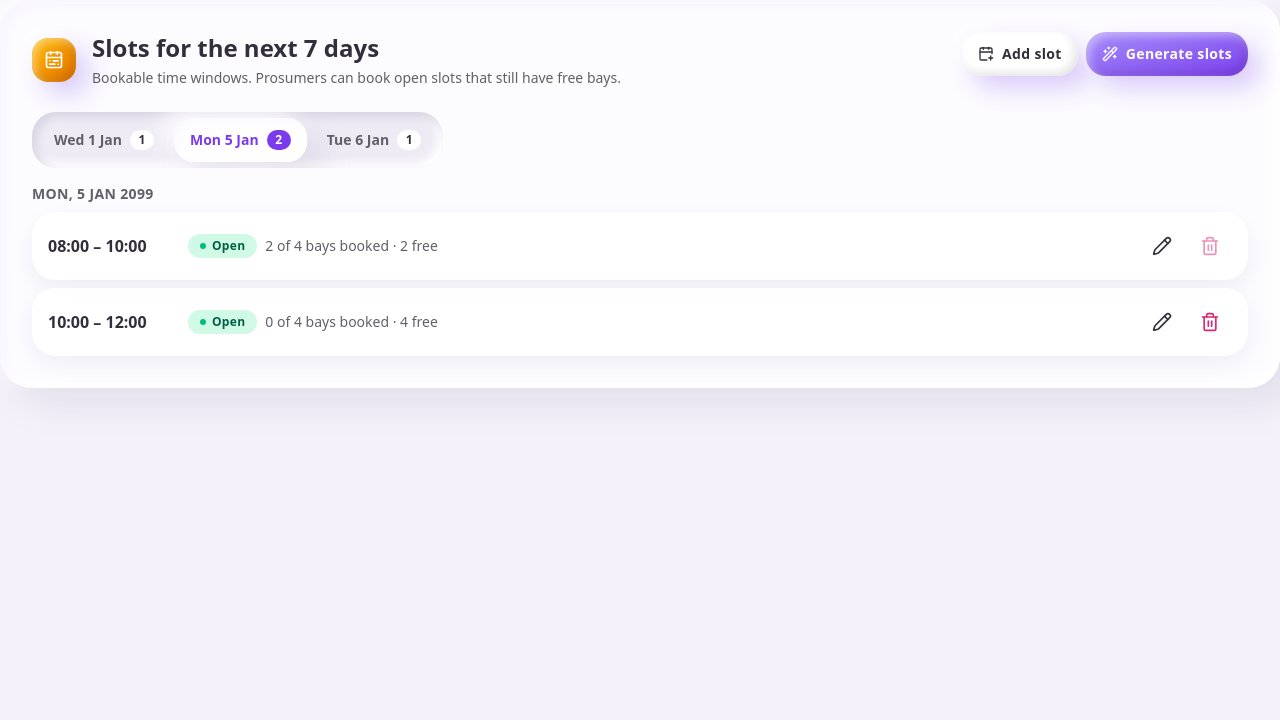
Test: SlotsPanel › adds one slot and opens its day
The image size is (1280, 720).
Expected: the element "5 Jan" is shown, [32,184,1248,356]
Click the button "Add slot" at (1020,54), box [962,32,1078,76]
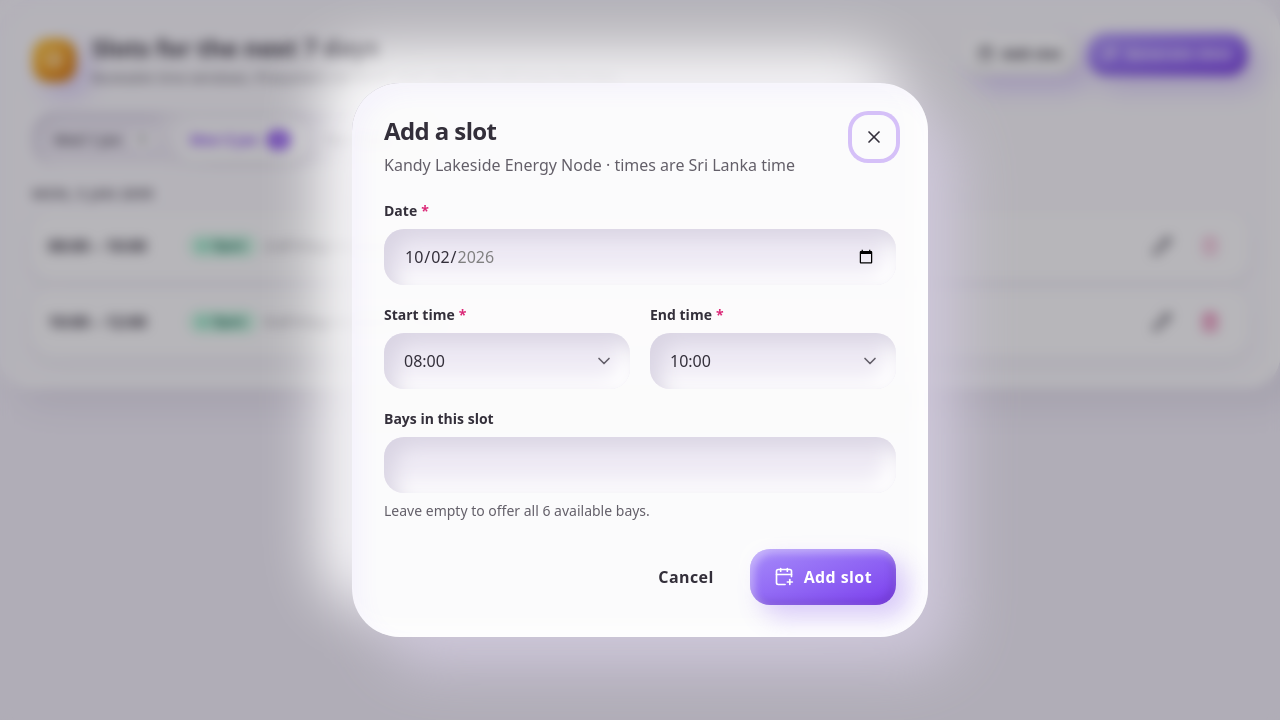
Select "09:00" in the dropdown labelled "Start time" at (507,361), box [384,333,630,389]
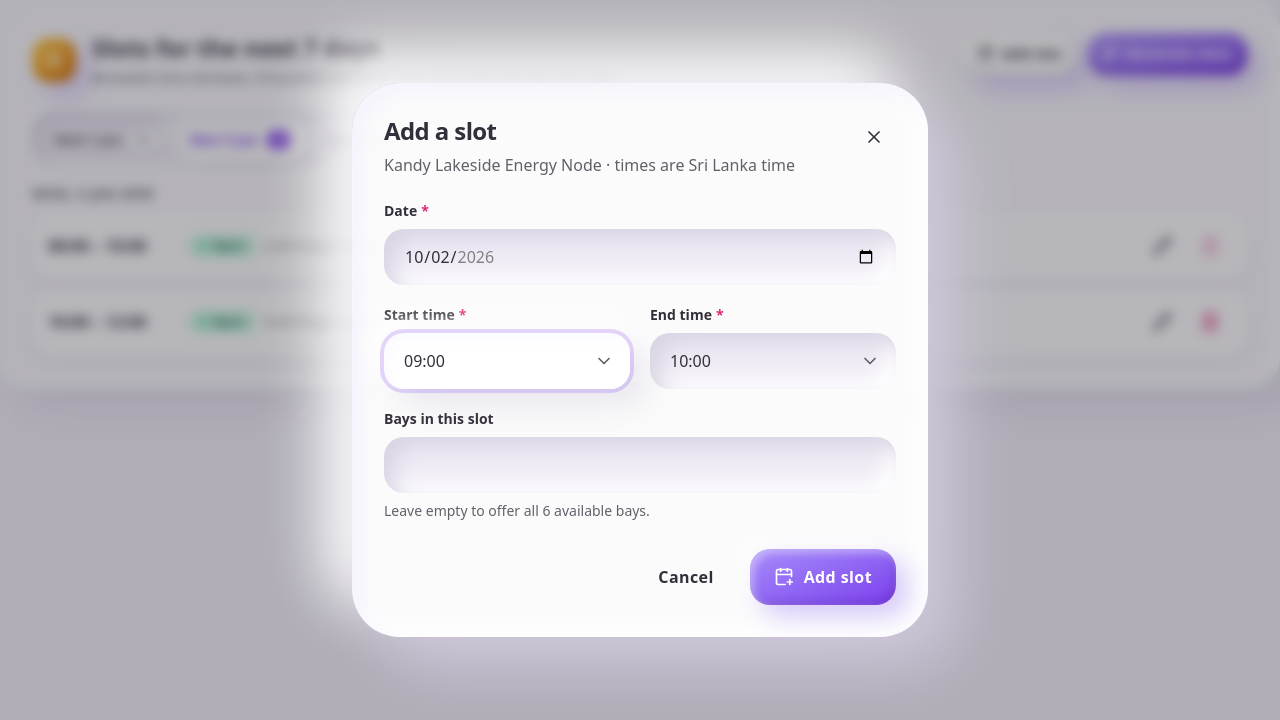
Select "11:00" in the dropdown labelled "End time" at (773,361), box [650,333,896,389]
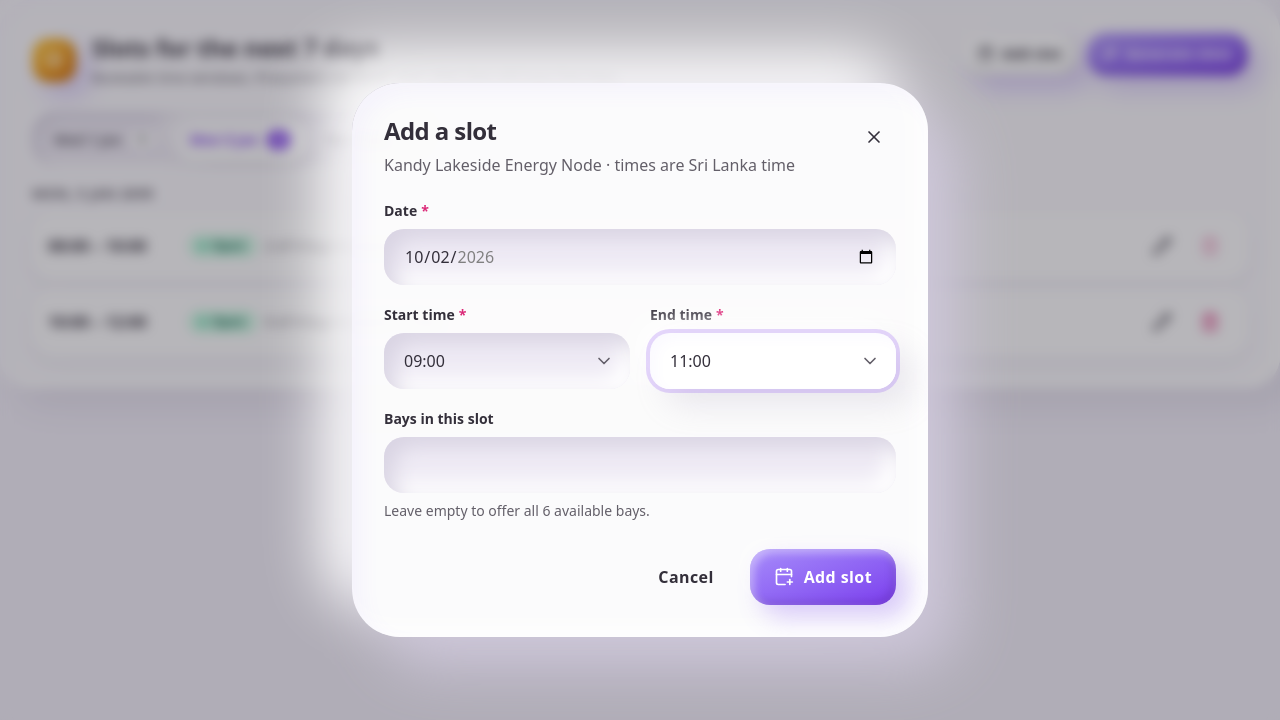
Type "3" into the number field labelled "Bays in this slot" at (640,465), box [384,437,896,493]
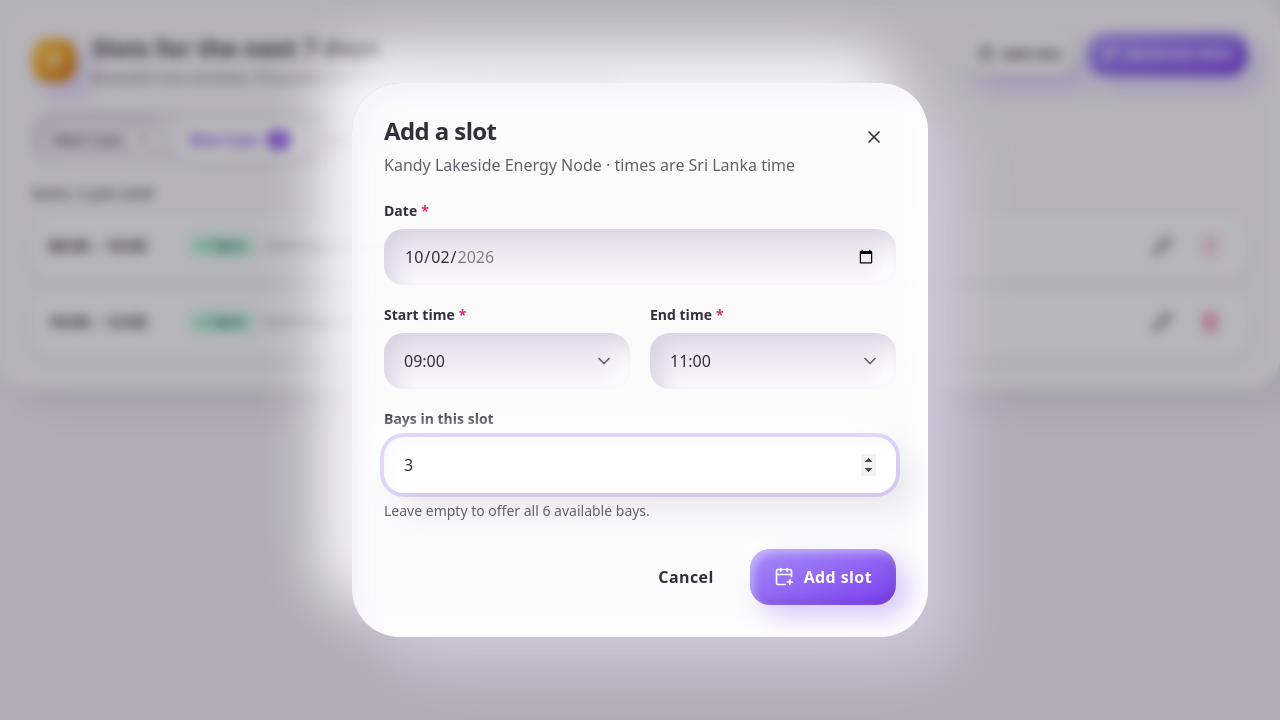
Click the button "Add slot" at (823,577), box [750,549,896,605]
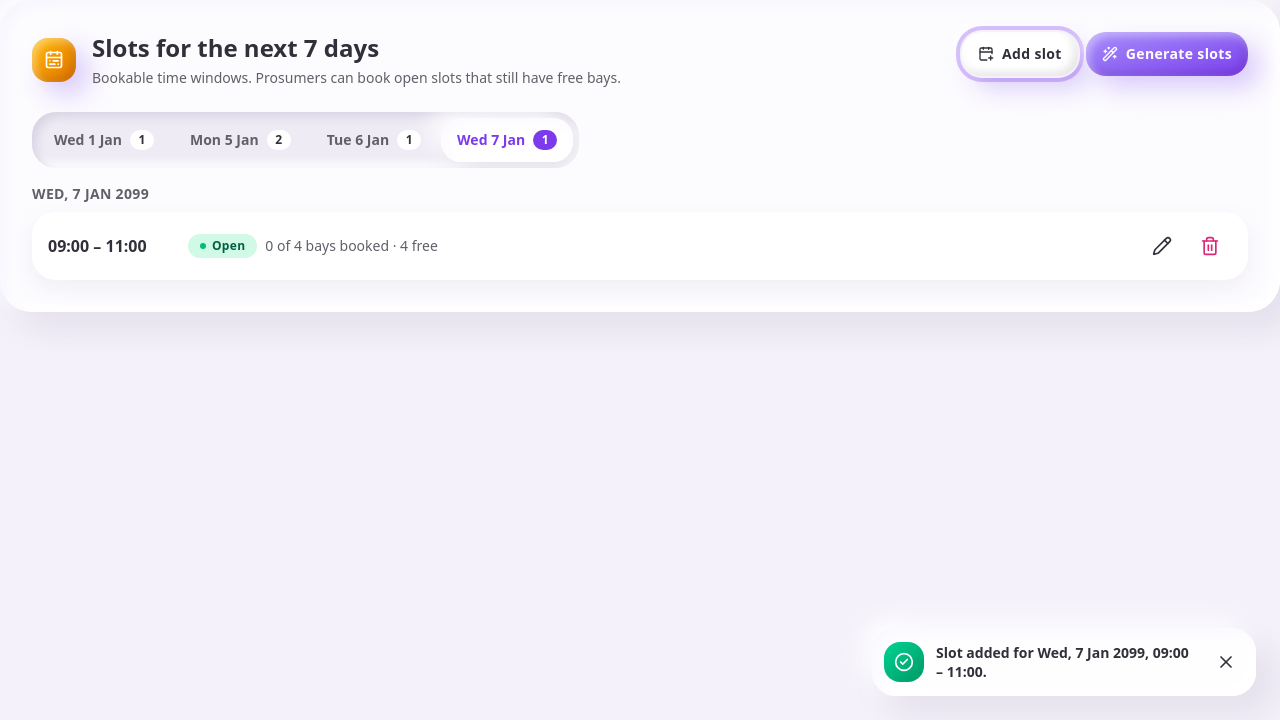
Result: the text "Slot added for Wed, 7 Jan 2099, 09:00 – 11:00." is shown at [936,643,1192,681]
Result: the list item with aria-label "Slot 09:00 – 11:00" is shown at [32,212,1248,280]
